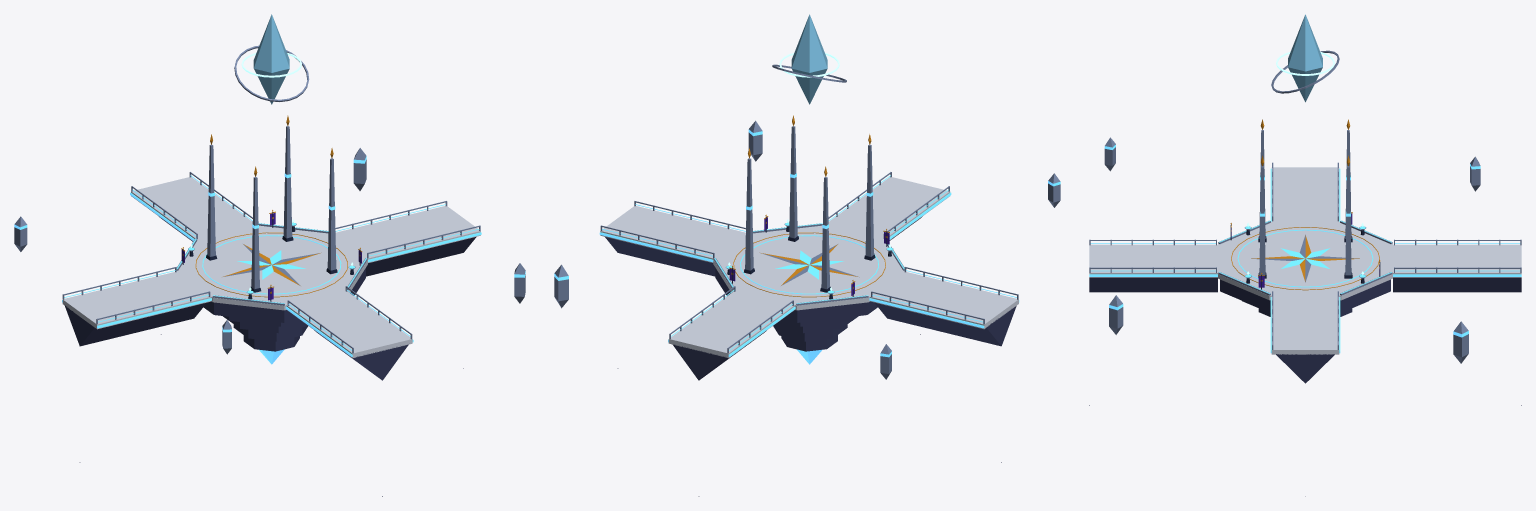
The model's file is chunk_crossroads.fbx.
The picture shows the model from 3 angles, left to right: view 1: azimuth 30°, elevation 25°; view 2: azimuth 150°, elevation 25°; view 3: azimuth 270°, elevation 25°; orthographic projection. The views are drawn at different scales.
Visible parts, largest first — view 1: chunk_crossroads; view 2: chunk_crossroads; view 3: chunk_crossroads.
Boxes of the visible parts, x1,y1,x2,y2 form: chunk_crossroads: (14, 14, 525, 496); chunk_crossroads: (554, 14, 1060, 496); chunk_crossroads: (1089, 14, 1521, 496).
Bounding box in the file's own units: 256 × 256 × 256.
